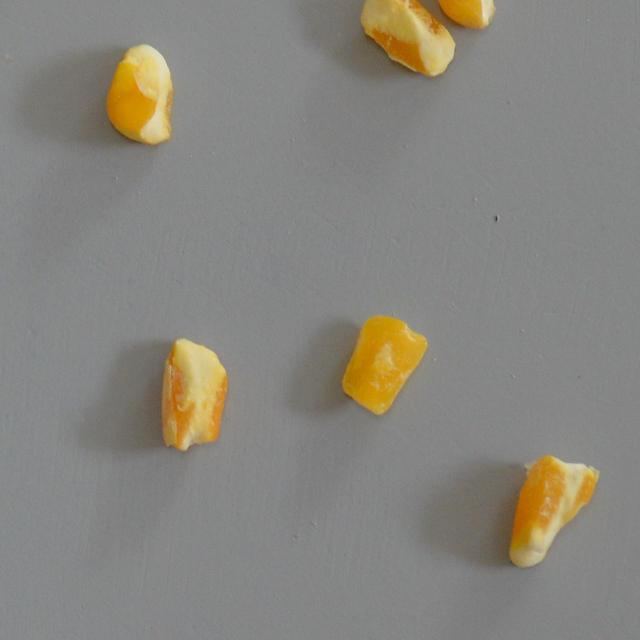estandar: (104, 42, 174, 146)
pelicula: (506, 455, 598, 570), (342, 316, 428, 416), (156, 336, 228, 454), (356, 0, 456, 79), (434, 0, 496, 30)
